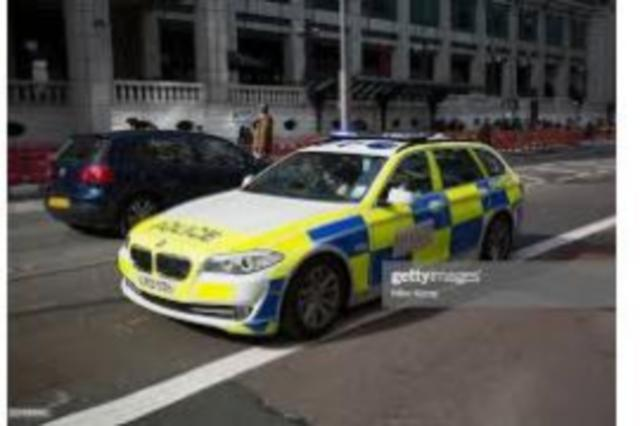police_car: (114, 128, 526, 344)
